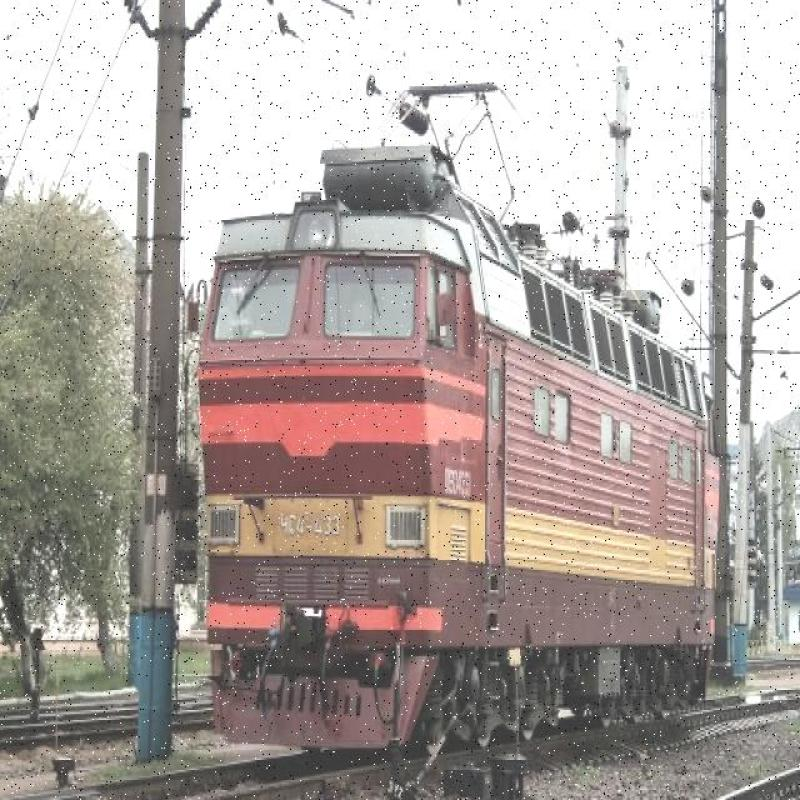train: (184, 167, 714, 725)
